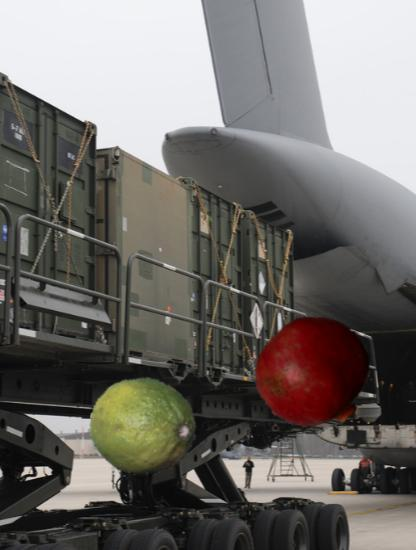Limes: (89, 373, 198, 482)
Pomegranate: (257, 315, 374, 432)
